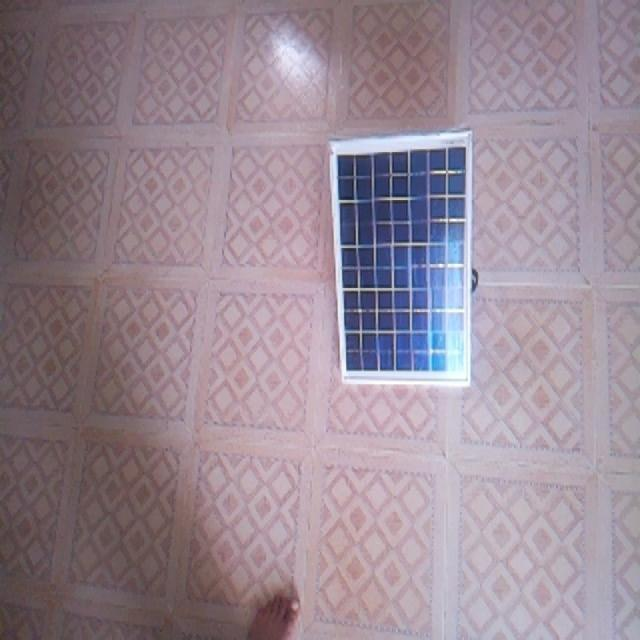Normal Solar Panel: (332, 131, 473, 385)
